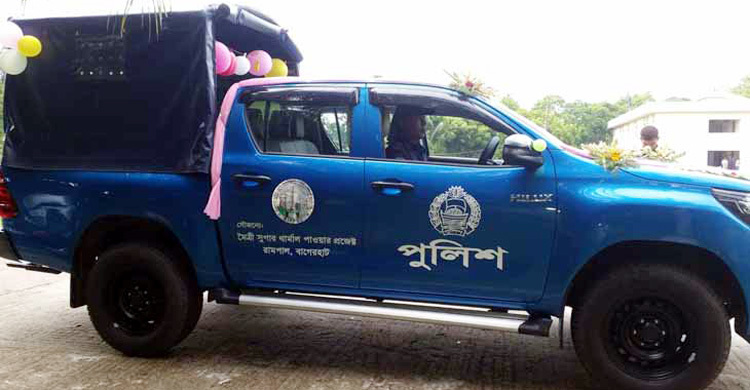policecar: (1, 2, 750, 384)
